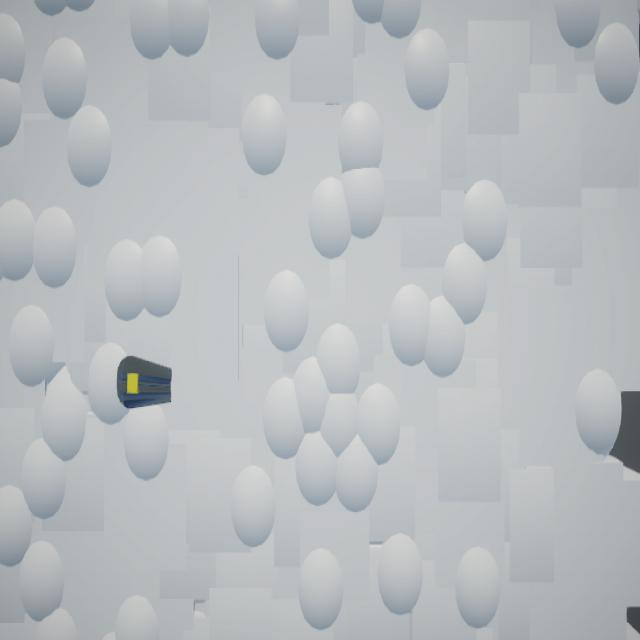handle_folk: (118, 356, 173, 410)
